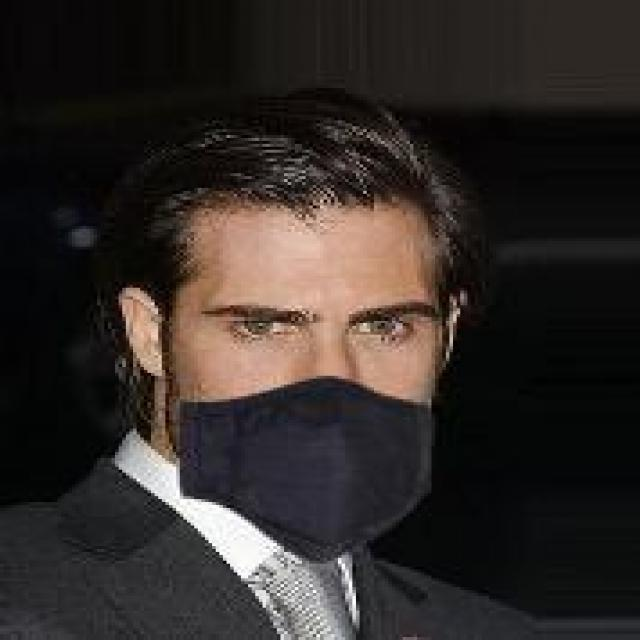mask: (83, 103, 503, 540)
